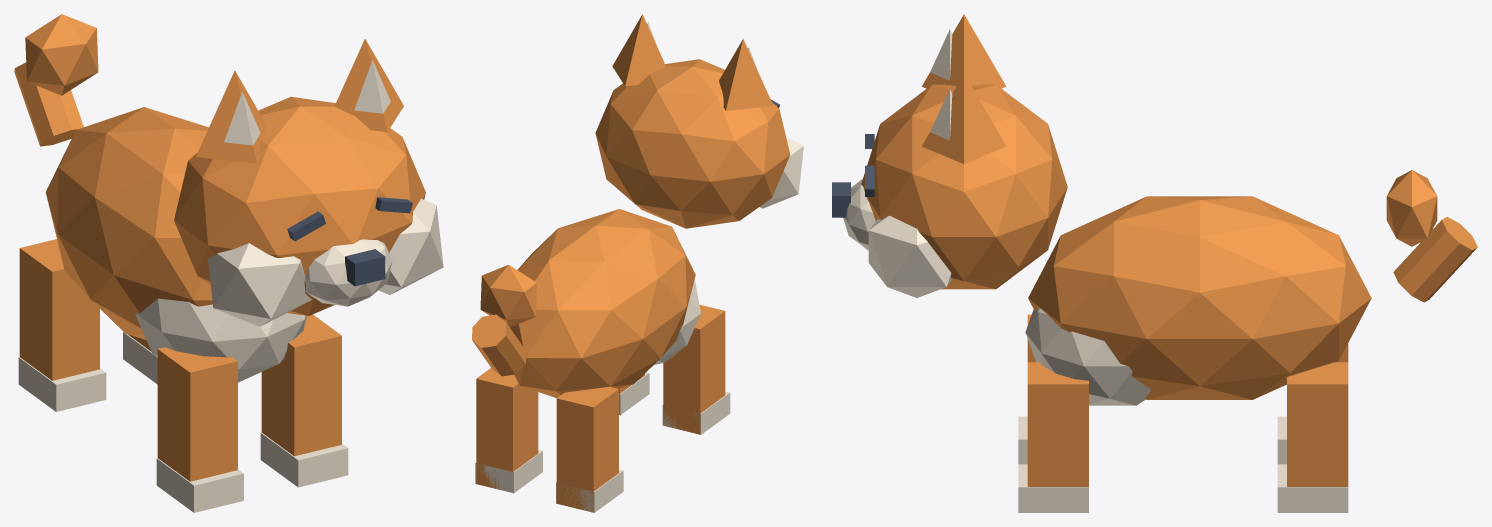
File: shiba.glb
3 views of the same model, side by side, from view 1: azimuth 30°, elevation 25°; view 2: azimuth 150°, elevation 25°; view 3: azimuth 270°, elevation 25° (orthographic). The views are drawn at different scales.
Parts seen in each view (by area): view 1: body.003, head.003, tail.001, ear_l.001, ear_r.001; view 2: body.003, head.003, tail.001, ear_l.001, ear_r.001; view 3: body.003, head.003, tail.001, ear_r.001, ear_l.001.
Boxes of the visible parts, box(x1,y1,x2,y2) form: body.003: box(18, 107, 348, 512); head.003: box(174, 96, 443, 326); tail.001: box(14, 14, 98, 146); ear_l.001: box(196, 70, 266, 163); ear_r.001: box(334, 39, 403, 131); body.003: box(475, 209, 730, 512); head.003: box(595, 59, 803, 228); tail.001: box(472, 264, 536, 376); ear_l.001: box(719, 39, 773, 110); ear_r.001: box(612, 14, 666, 86); body.003: box(1018, 196, 1371, 512); head.003: box(832, 84, 1067, 297); tail.001: box(1386, 170, 1477, 302); ear_r.001: box(922, 74, 1006, 164); ear_l.001: box(922, 14, 1006, 88).
Bounding box in the file's own units: 0.5147 × 1.02 × 1.37.
